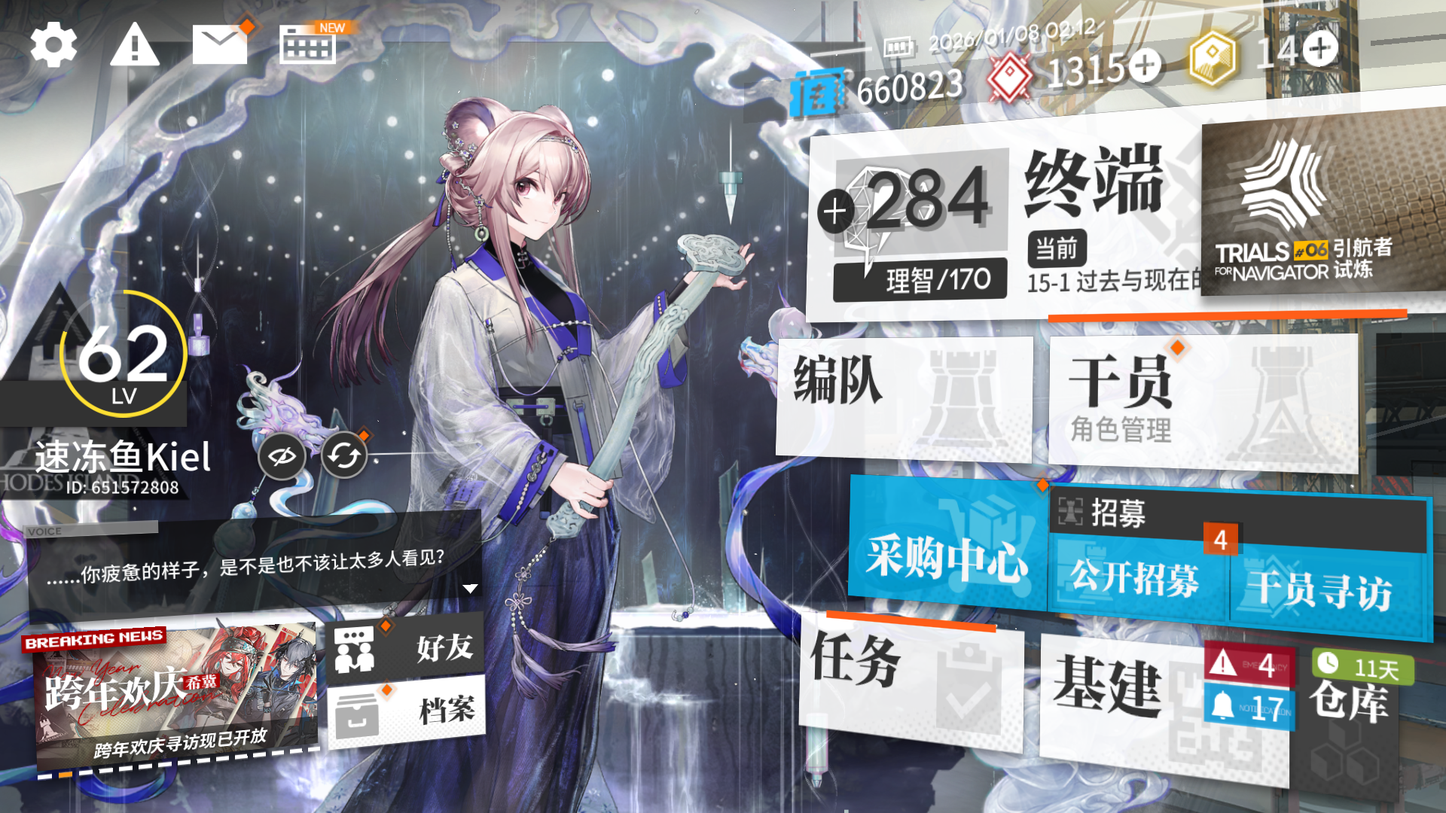home_button: (1010, 117, 1185, 243)
infrastructure_button: (1036, 637, 1292, 773)
